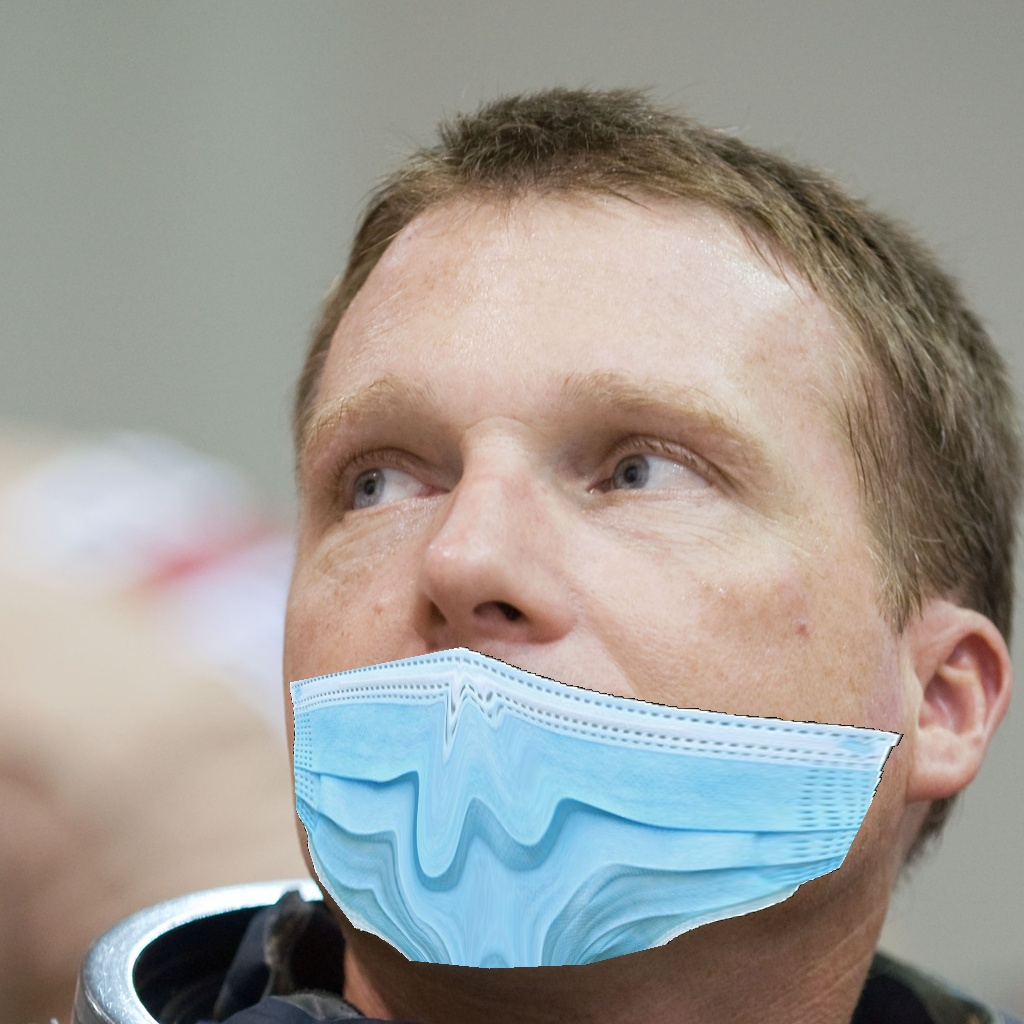mascarilla_mal_puesta: (272, 355, 879, 953)
